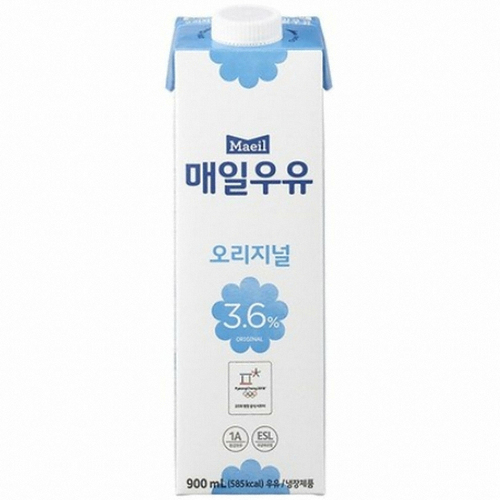milk: (164, 7, 334, 496)
